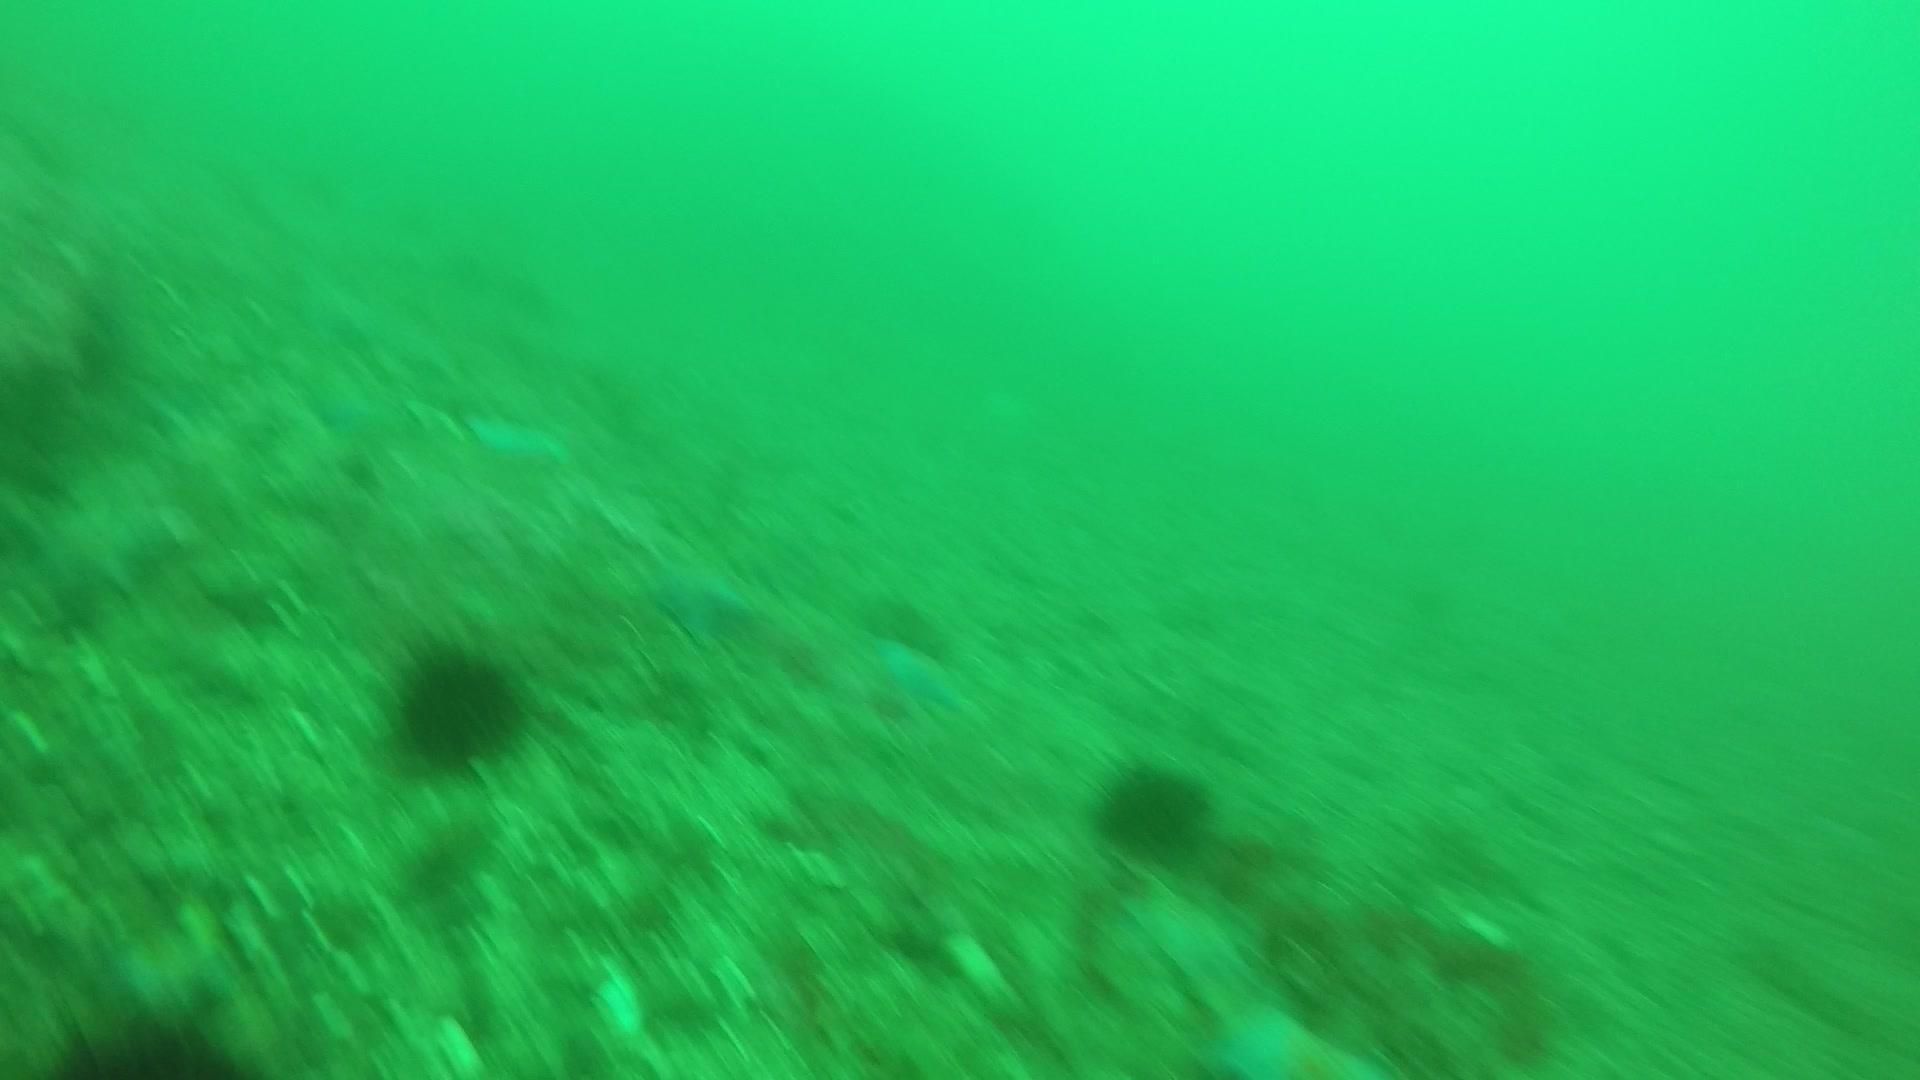echinus: (384, 637, 531, 775), (37, 1006, 257, 1077), (1089, 756, 1215, 861)
starfish: (7, 473, 179, 617), (1114, 870, 1263, 990), (1189, 994, 1389, 1077), (644, 546, 760, 650), (870, 632, 971, 721), (462, 402, 574, 471)
